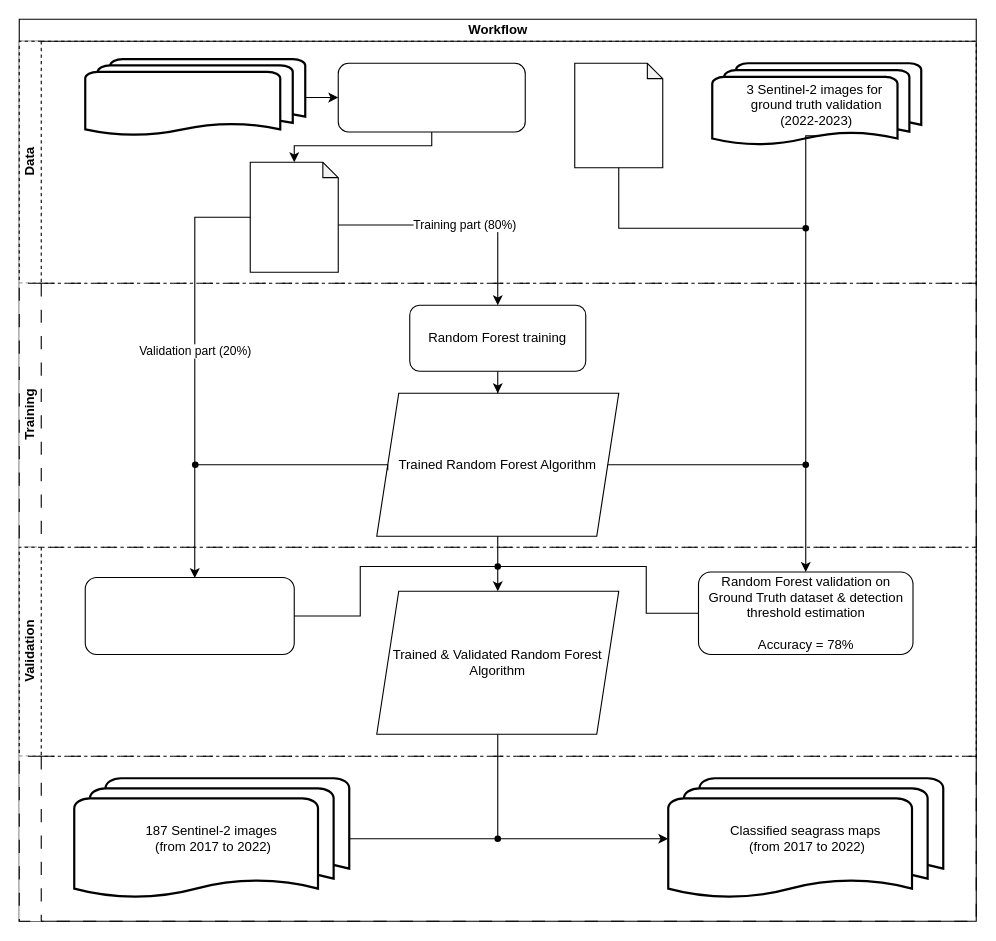
This 996x941 diagram has some shape labels left out. Here are the shapes that lost their labels. From the top down, the box of each, then its label:
(84, 57, 306, 137): 12 Sentinel-2 images (6 in 2017, 6 in 2023)
(337, 62, 525, 132): Polygon delineation & Pixel extraction
(574, 62, 663, 168): Ground Truth Dataset n = 196 points
(249, 161, 338, 272): Polygon Dataset n = 7112 pixels
(84, 576, 294, 654): Random Forest validation on polygon dataset Accuracy = 99.29%
(18, 755, 976, 921): Treatment
